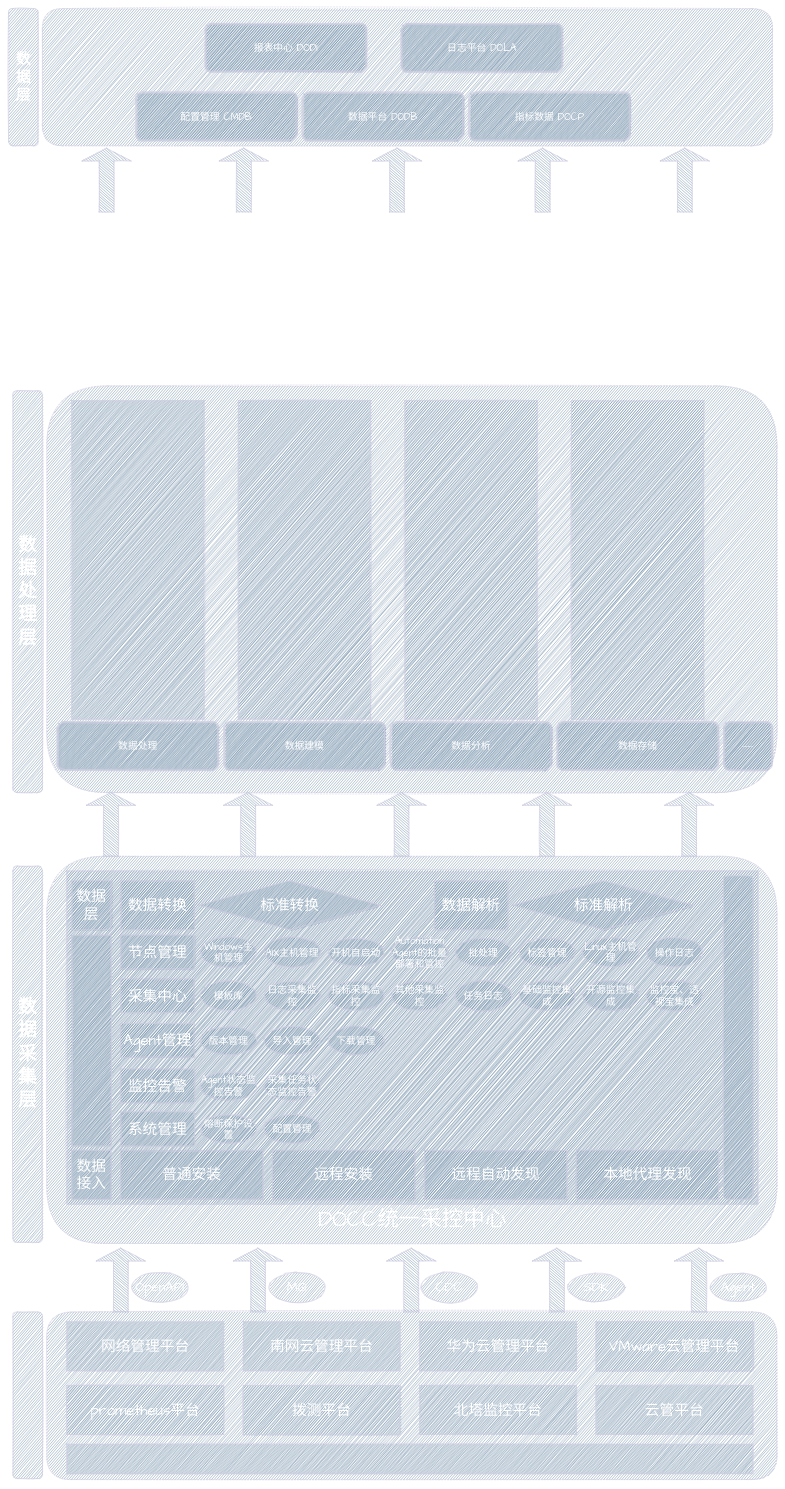
Image size: 785x1489. Some labels were removed from this diagram. The centre of each missing label's shape, as x and y in pixels:
"专业定制化监控平台" belongs at point 409,1459.
"控制管理" belongs at point 91,1040.
"数据采集预处理" belongs at point 738,1037.
"立体化监控层" belongs at point 27,1395.
